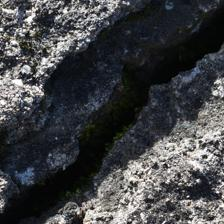Crack: (4, 9, 219, 222)
